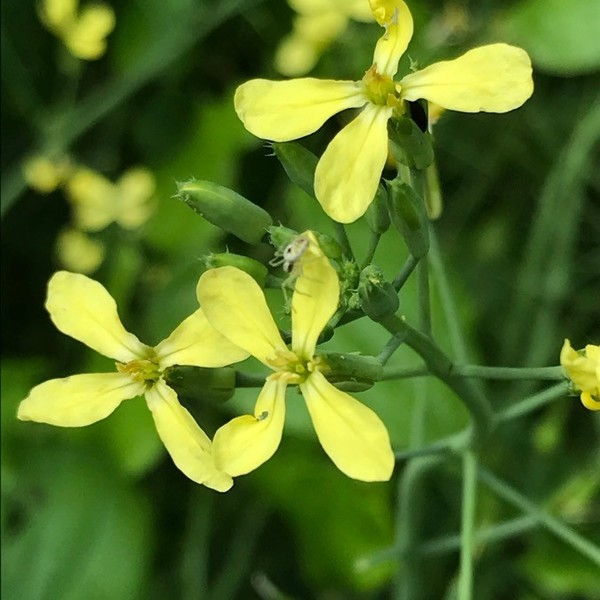obstacle: (34, 49, 503, 461)
